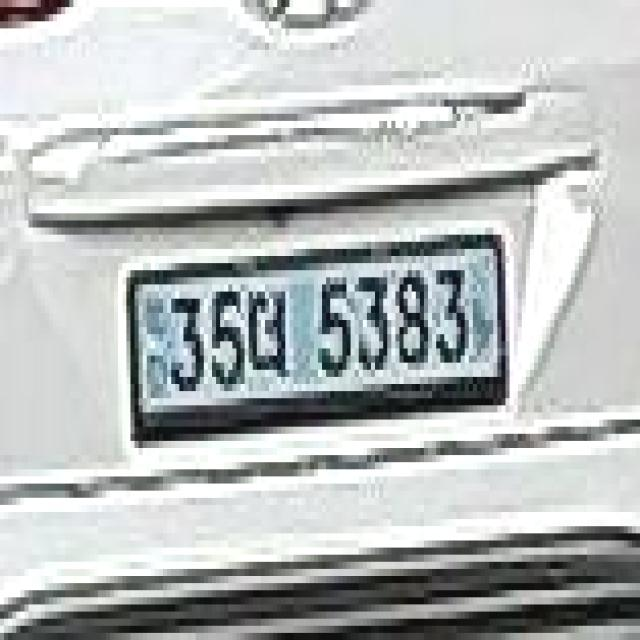EV_plate: (121, 232, 512, 428)
